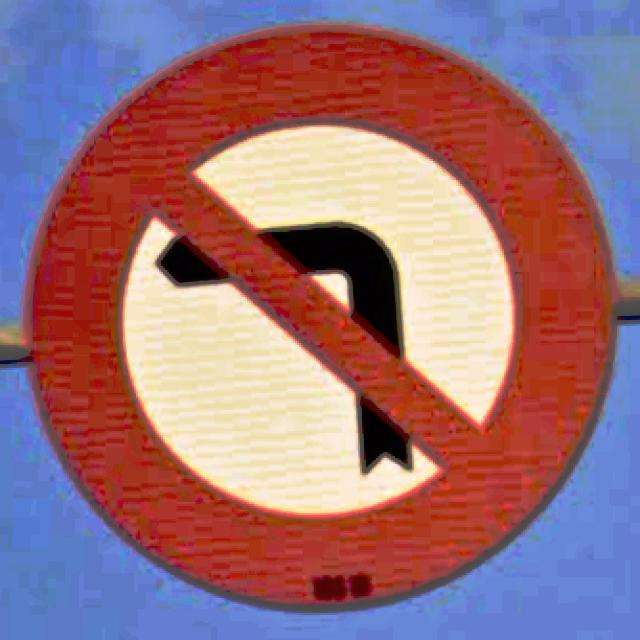noturnleft: (23, 27, 617, 615)
